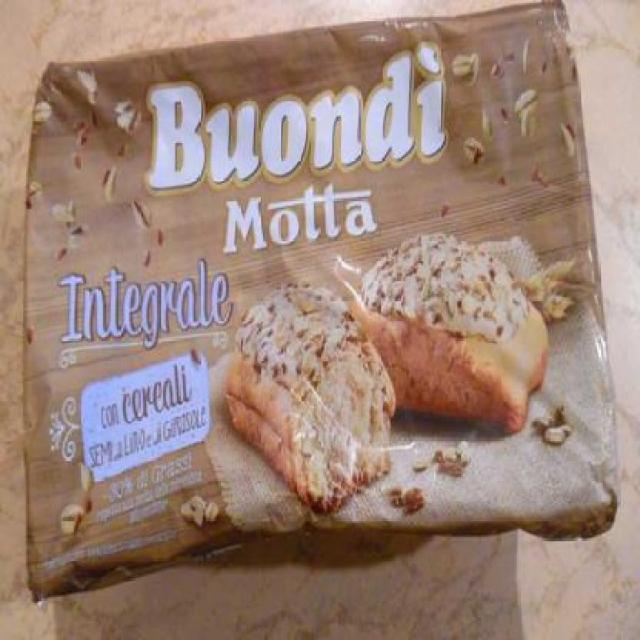Merendine: (22, 11, 620, 604)
